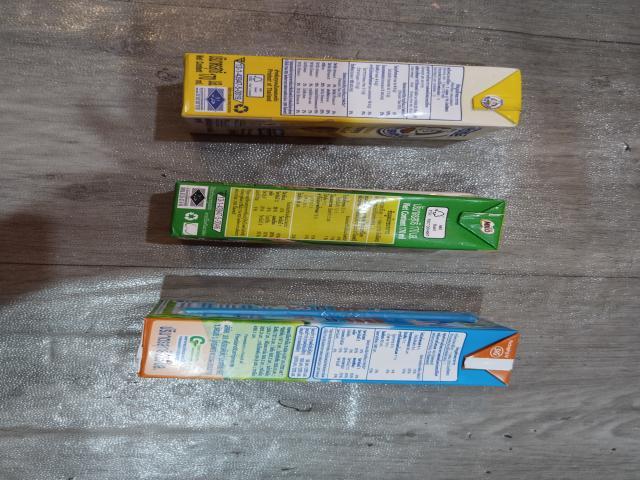drink_box: (132, 44, 537, 148), (119, 300, 526, 395), (151, 180, 515, 257)
